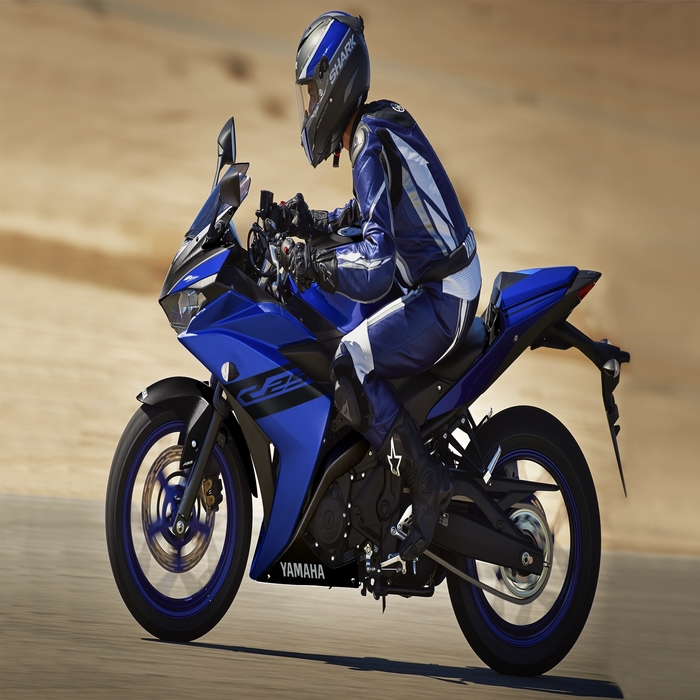h: (293, 5, 370, 172)
